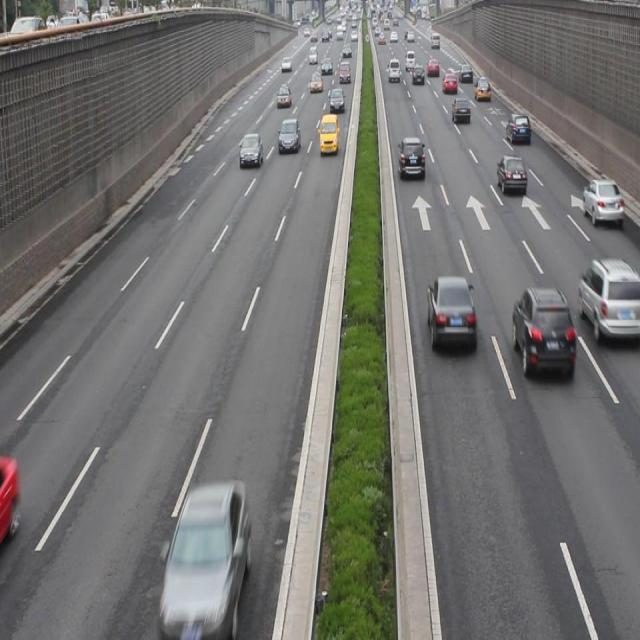car: (161, 480, 249, 625), (511, 284, 576, 379), (577, 257, 640, 343), (427, 273, 476, 354), (580, 176, 623, 226), (496, 153, 528, 197), (398, 135, 424, 179), (238, 131, 263, 170), (504, 109, 530, 146), (278, 117, 301, 153), (451, 97, 471, 125)
truck: (317, 114, 339, 154)
